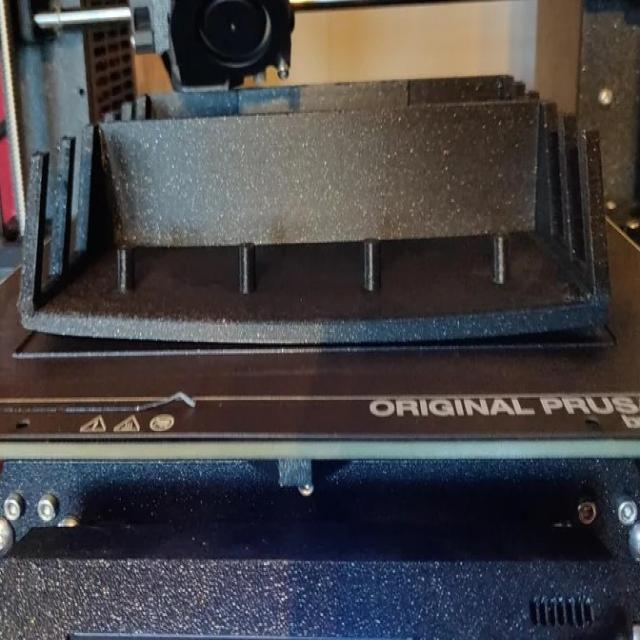warping: (16, 302, 141, 349), (533, 297, 618, 340)
